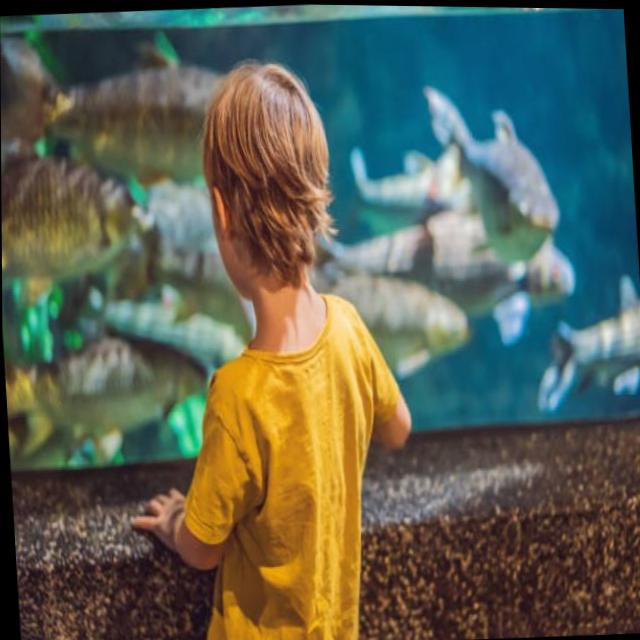no helmet: (171, 56, 368, 332)
